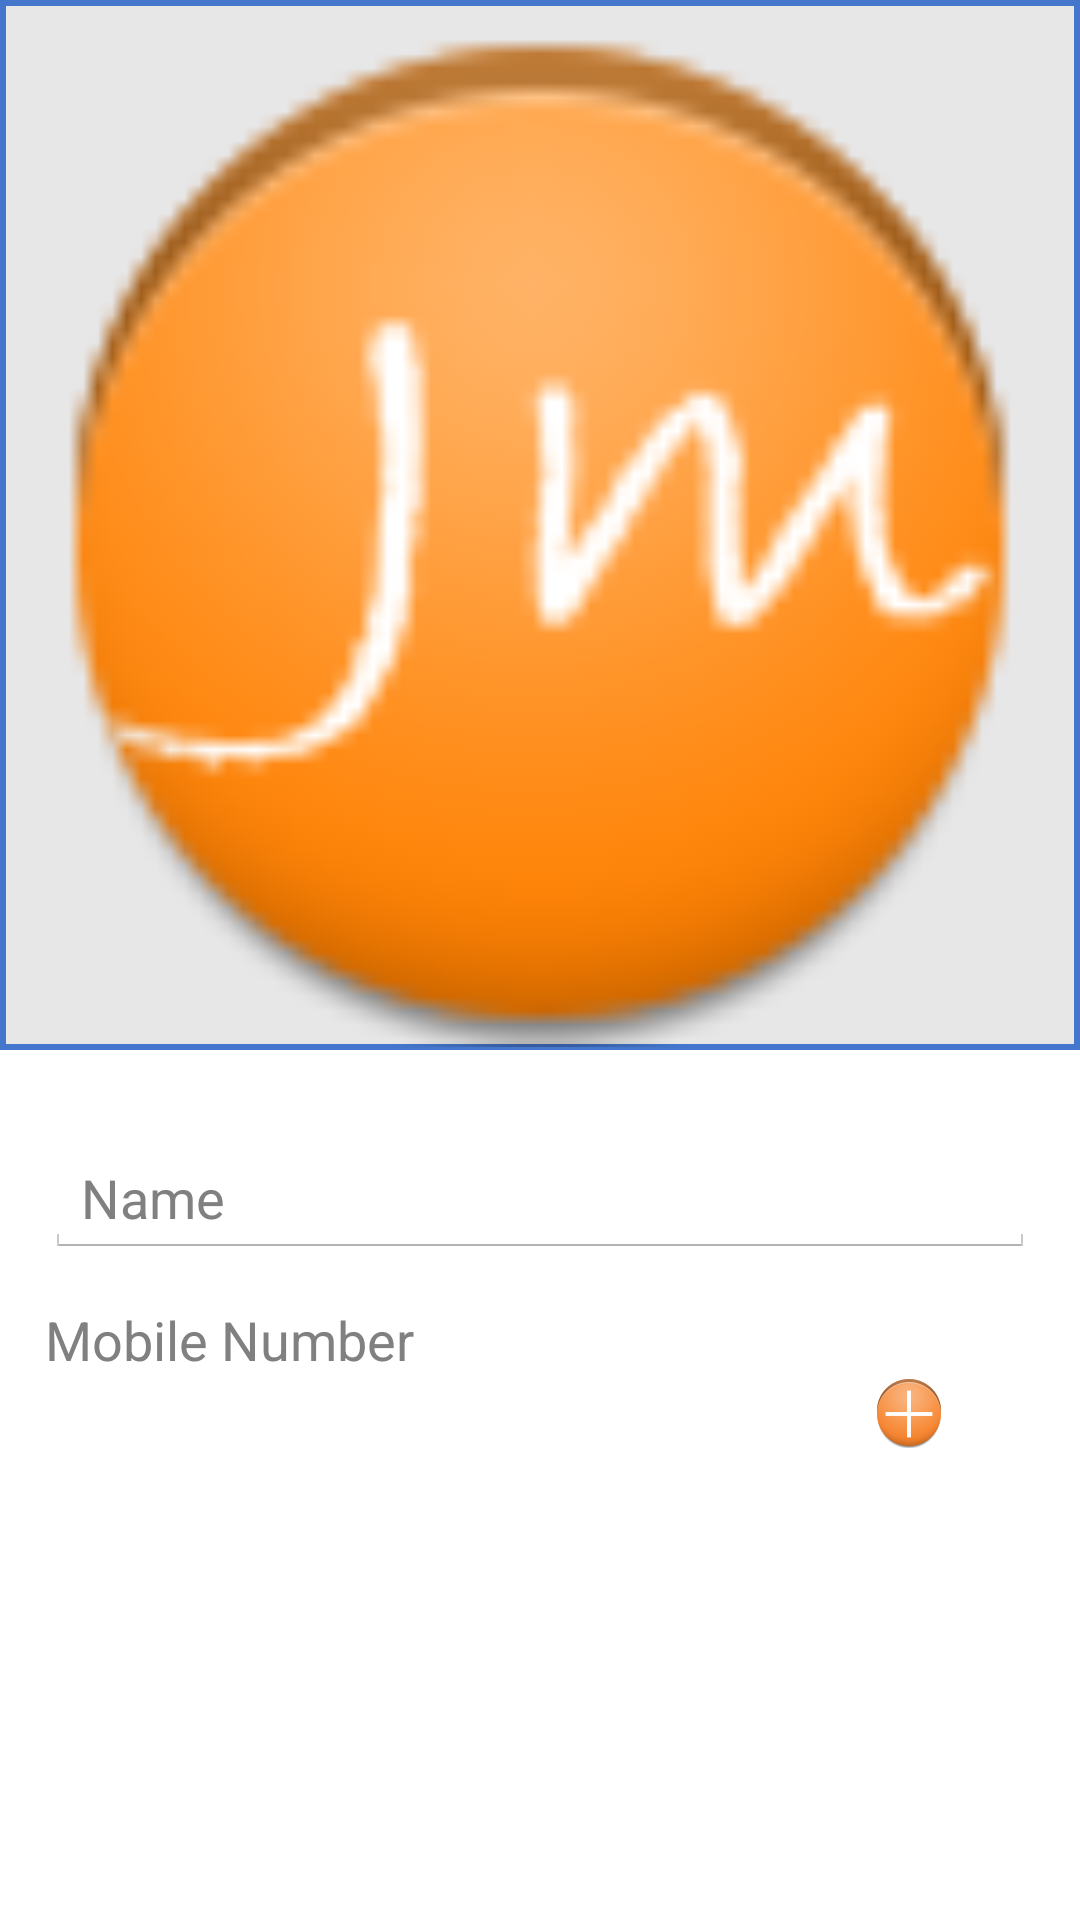

Icons on this 1080x1920 Android screen, each with its box as Rect(x1, y1, x2, y2):
add: Rect(877, 1379, 941, 1448)
